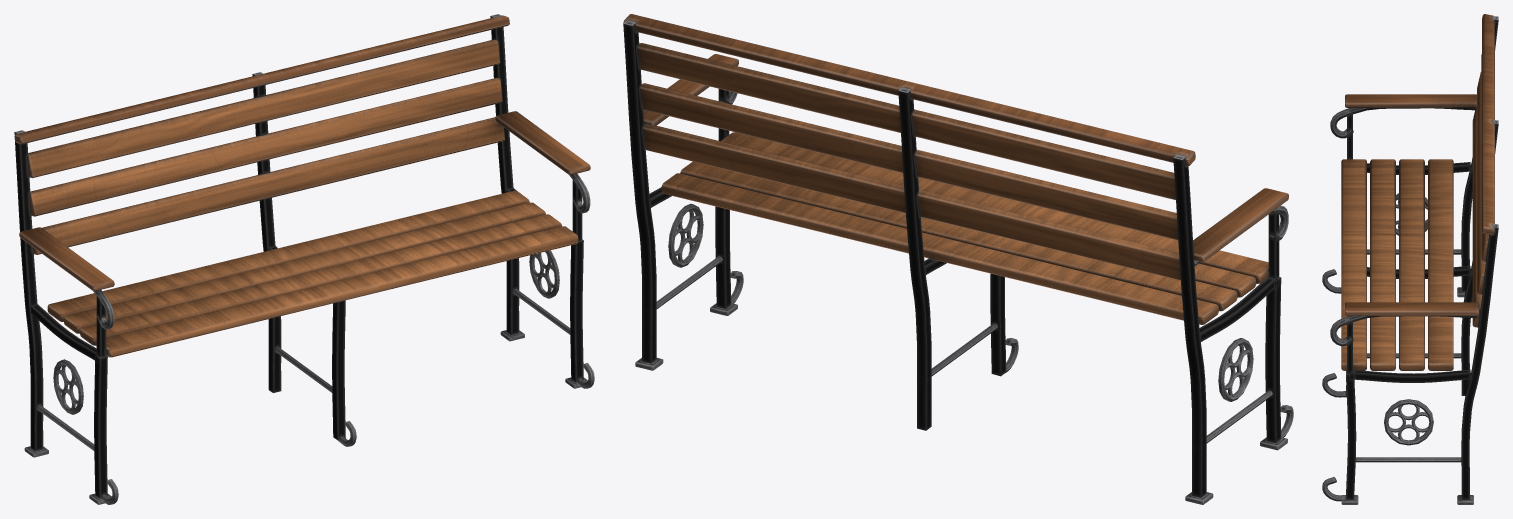
File: HallBench.fbx
3 views of the same model, side by side, from view 1: azimuth 30°, elevation 25°; view 2: azimuth 150°, elevation 25°; view 3: azimuth 270°, elevation 25° (orthographic). The views are drawn at different scales.
Visible parts, largest first — view 1: HallBench; view 2: HallBench; view 3: HallBench.
Boxes of the visible parts, x1=… form: HallBench: x1=14, y1=14, x2=594, y2=504; HallBench: x1=623, y1=14, x2=1293, y2=504; HallBench: x1=1322, y1=14, x2=1498, y2=504.
Size of the model in its own units: 498 by 297 by 171.
